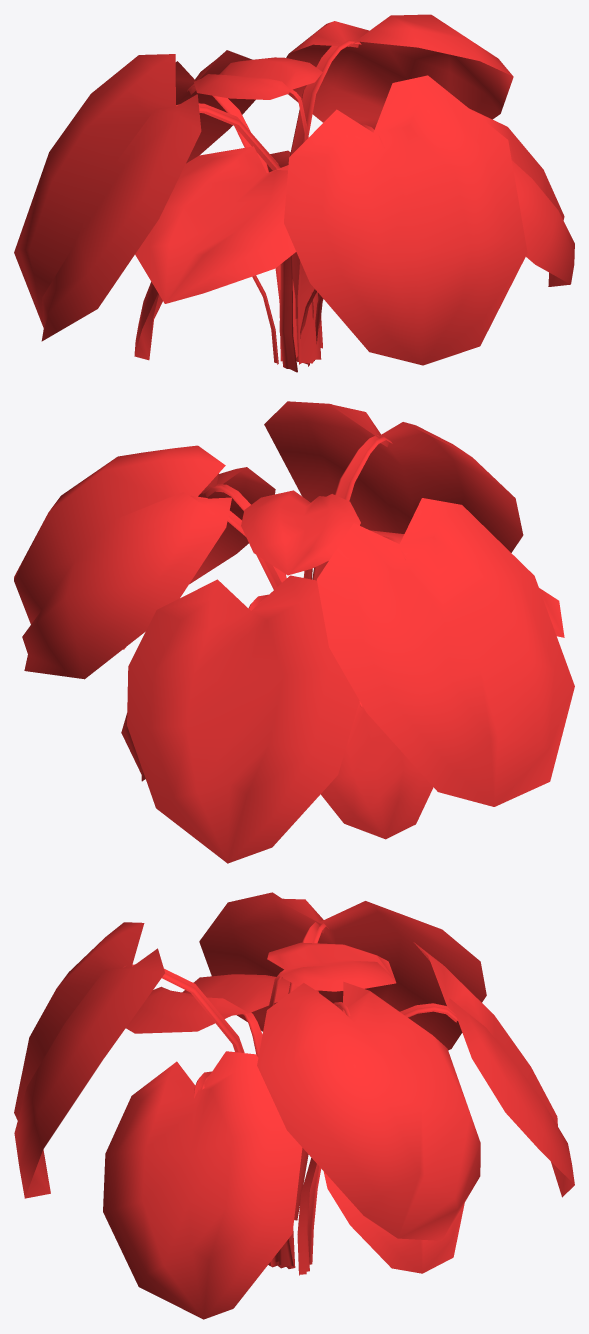
File: SM_Medium_Plant_02.fbx
3 renders of one model, top to bottom at view 1: azimuth 30°, elevation 25°; view 2: azimuth 150°, elevation 25°; view 3: azimuth 270°, elevation 25°, orthographic. The views are drawn at different scales.
Visible parts, largest first — view 1: Object001; view 2: Object001; view 3: Object001.
Part boxes in pixels (left/top/right/bottom): Object001: left=14, top=14, right=574, bottom=372; Object001: left=14, top=401, right=574, bottom=863; Object001: left=14, top=892, right=574, bottom=1319.
Size of the model in its own units: 112 by 70.58 by 105.
